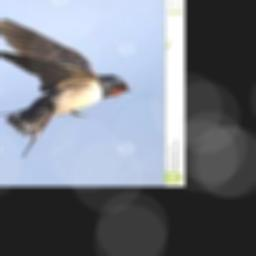Swallow: (0, 18, 132, 156)
